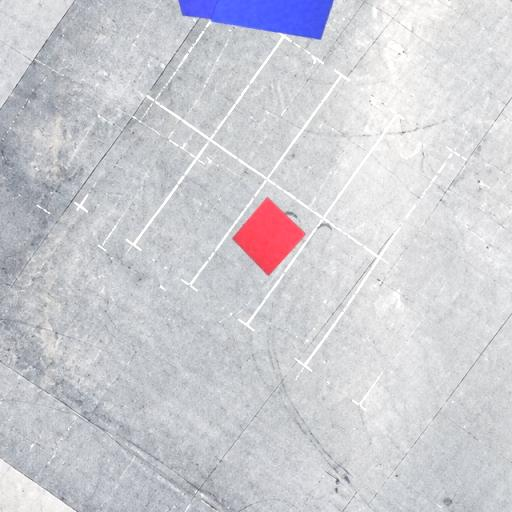RED_SQUARE: (232, 196, 306, 277)
